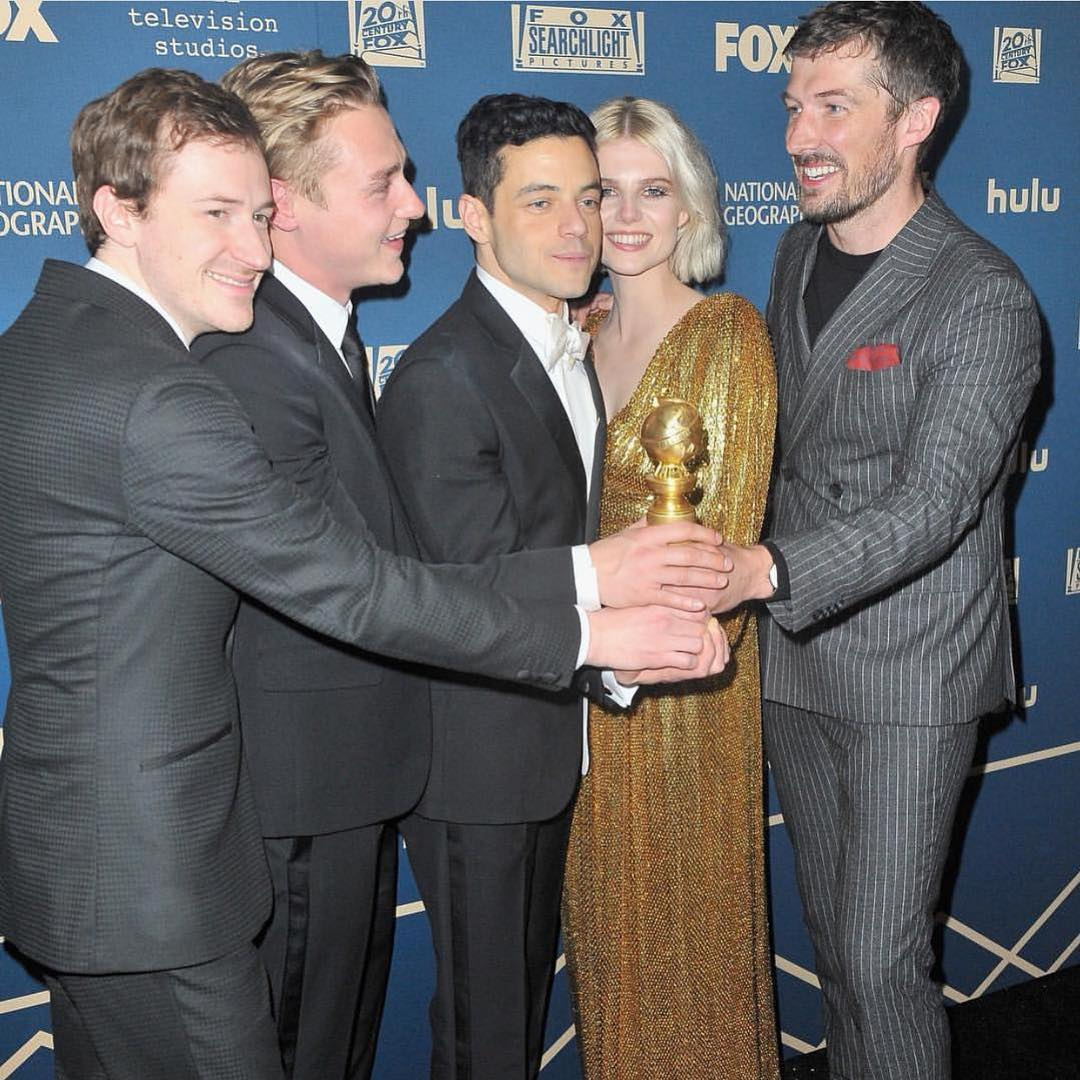hand: (600, 585, 702, 656)
